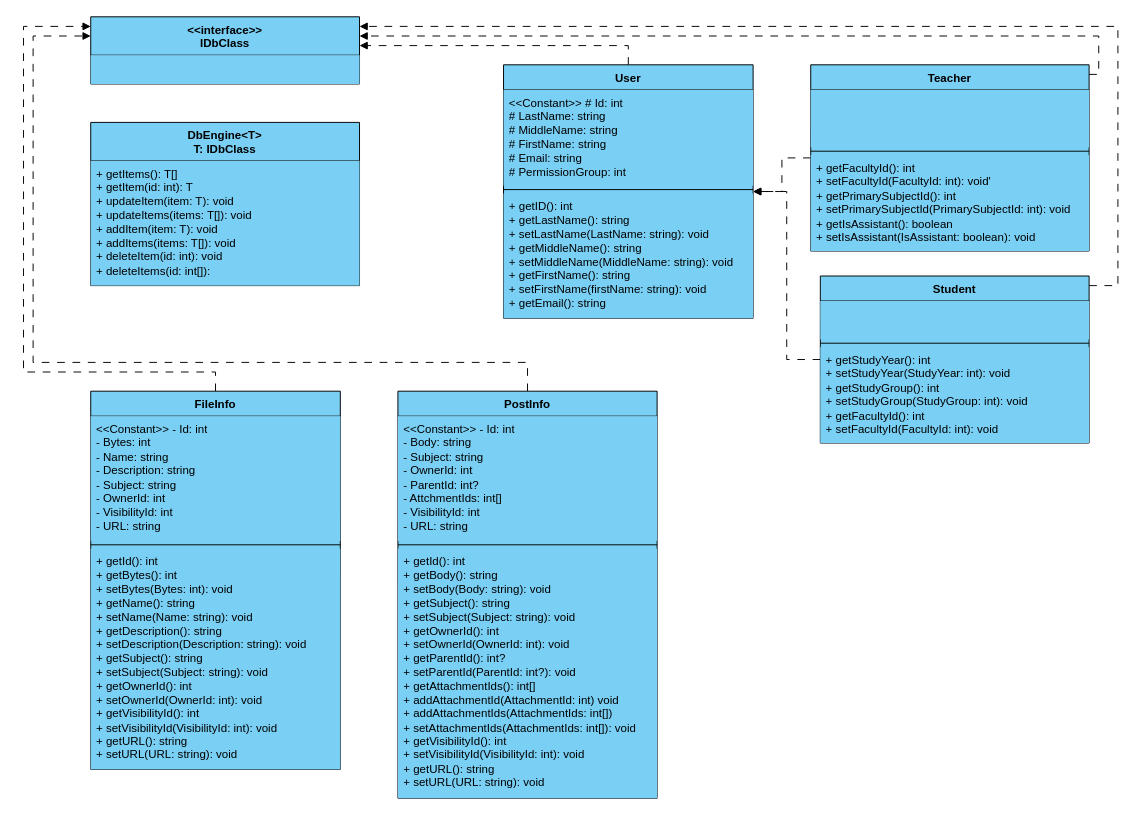
Image size: 1142x818. Some labels were removed from this diagram. Each missing label, with the centre of its shape:
"+ getDbQueryString(): string" goes at point (224, 69).
"- FacultyId: int - PrimarySubjectId: int - IsAssistant: boolean" goes at point (949, 118).
"- StudyYear: int - StudyGroup: int" goes at point (954, 319).
